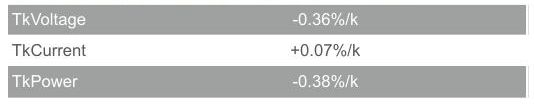table: (1, 1, 531, 102)
table column: (150, 3, 521, 100), (10, 4, 144, 101)
table row: (8, 67, 525, 97), (6, 7, 523, 33), (6, 38, 525, 60)
